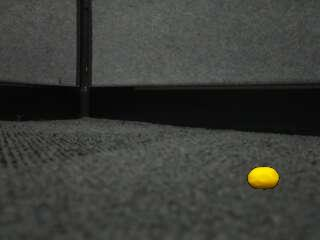Lemon: (248, 167, 280, 190)
